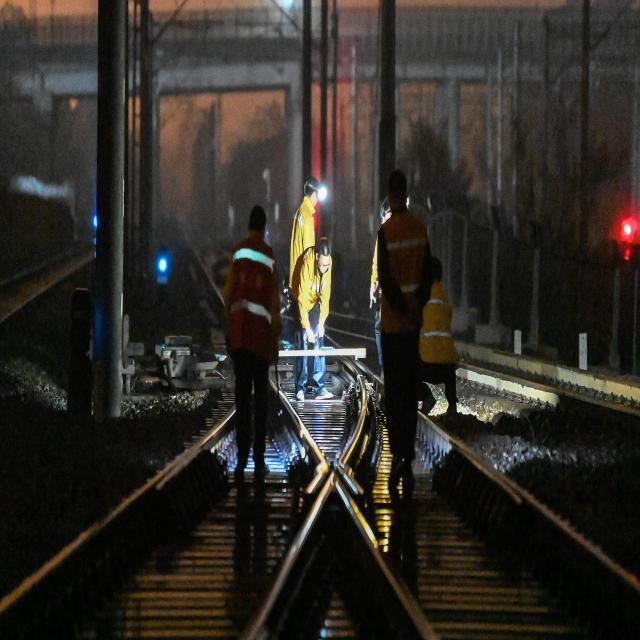people: (362, 168, 432, 493), (223, 205, 281, 492), (285, 177, 330, 362), (366, 191, 406, 370), (422, 258, 461, 416), (298, 240, 334, 392)
